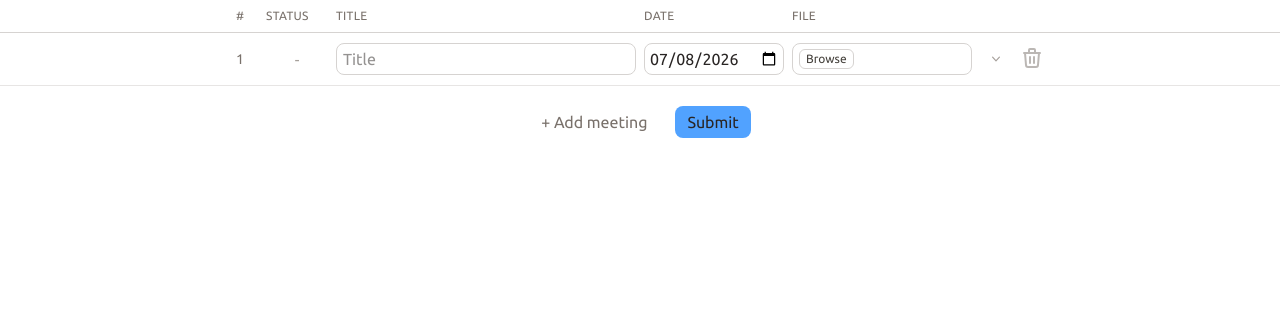
Test: Upload Meeting Form › clears failed carry-over status after a later successful retry
The width and height of the screenshot is (1280, 315).
Click the button "+ Add meeting". click: {"x": 594, "y": 122}
box: [529,106,660,138]
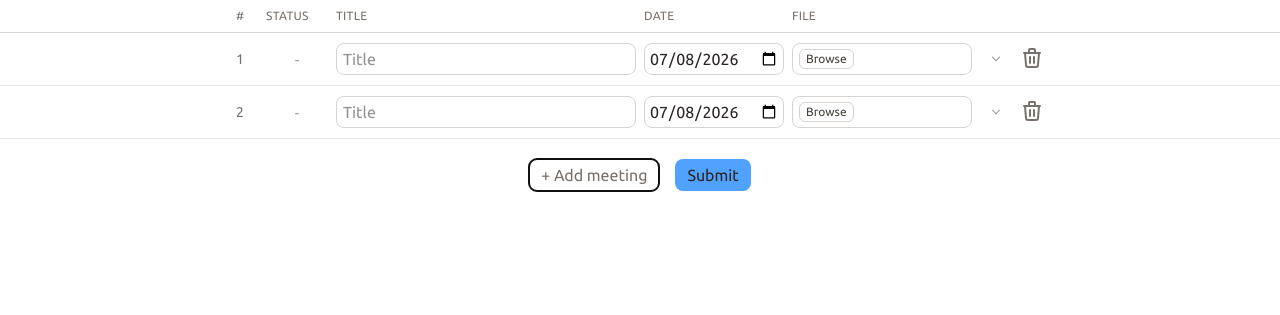
Click the button "+ Add meeting". click: {"x": 594, "y": 175}
box: [529,159,660,191]
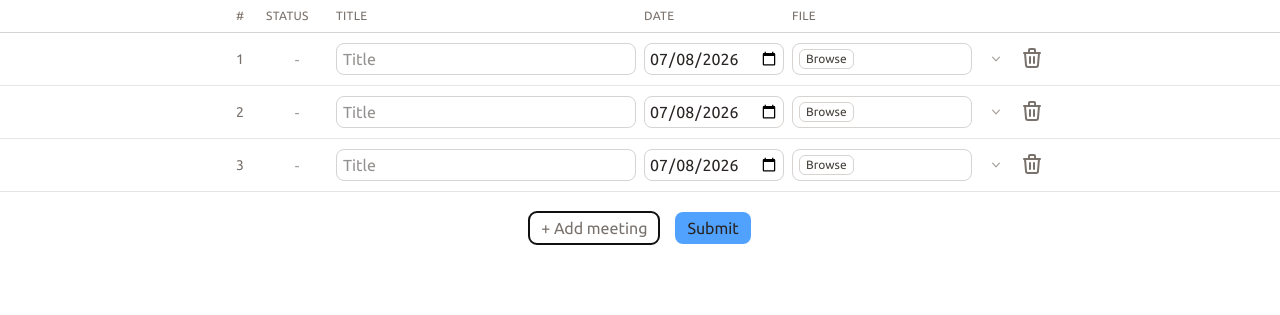
Click the button "+ Add meeting". click: {"x": 594, "y": 228}
box: [529,212,660,244]
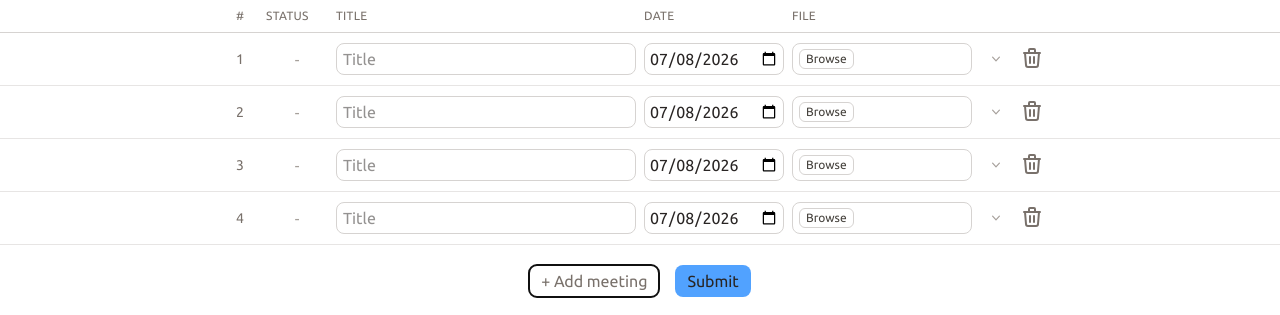
Submit the form
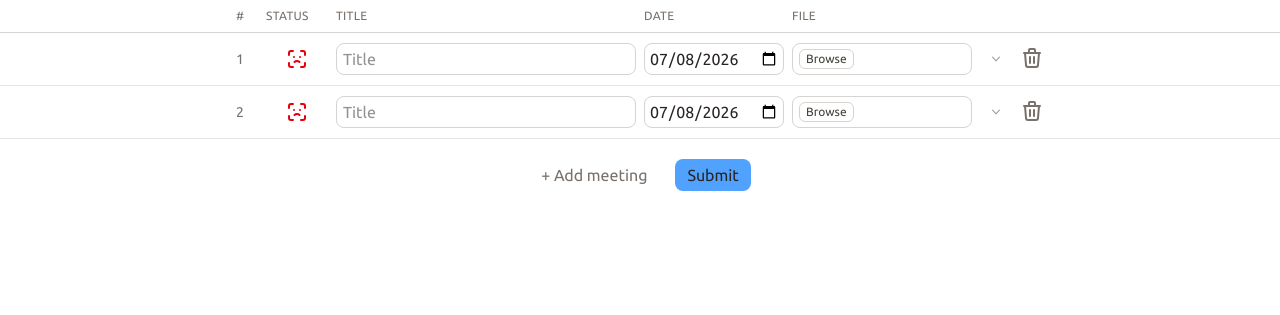
expect the number of fields labelled "Title" is 2: met, box [336,43,636,75]; [336,96,636,128]
expect the element named "Meeting 1 status: failed" is shown: met, box [285,47,309,71]
expect the element named "Meeting 2 status: failed" is shown: met, box [285,100,309,124]
Submit the form
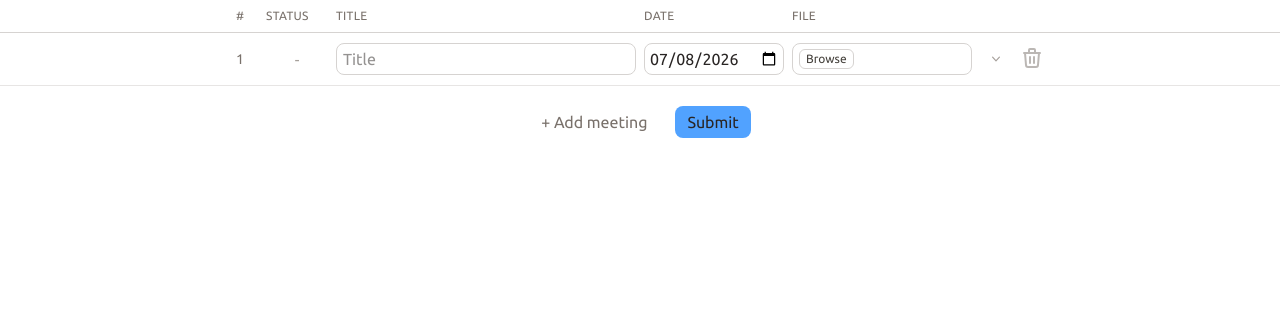
expect the number of fields labelled "Title" is 1: met, box [336,43,636,75]
expect the element named "Meeting 1 status: null" is shown: met, box [294,48,300,70]
